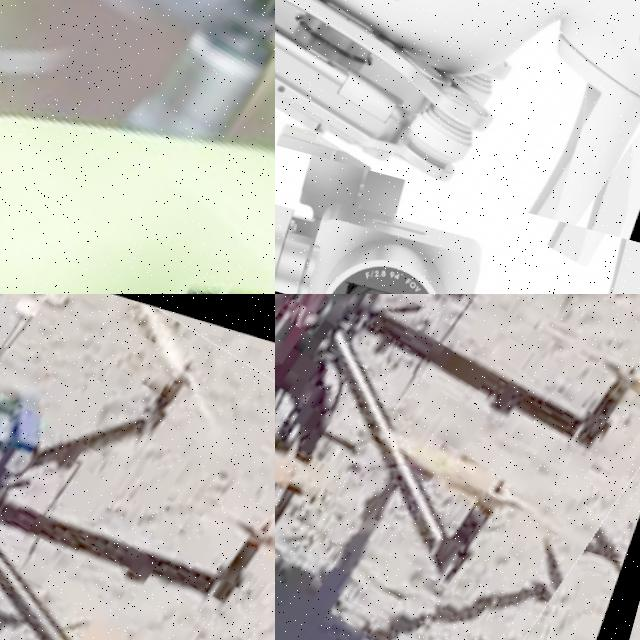0: (275, 294, 640, 640), (0, 294, 275, 640)
drone: (275, 0, 640, 249), (0, 0, 275, 294)
